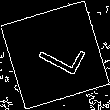L_NW: (25, 29, 85, 81)
